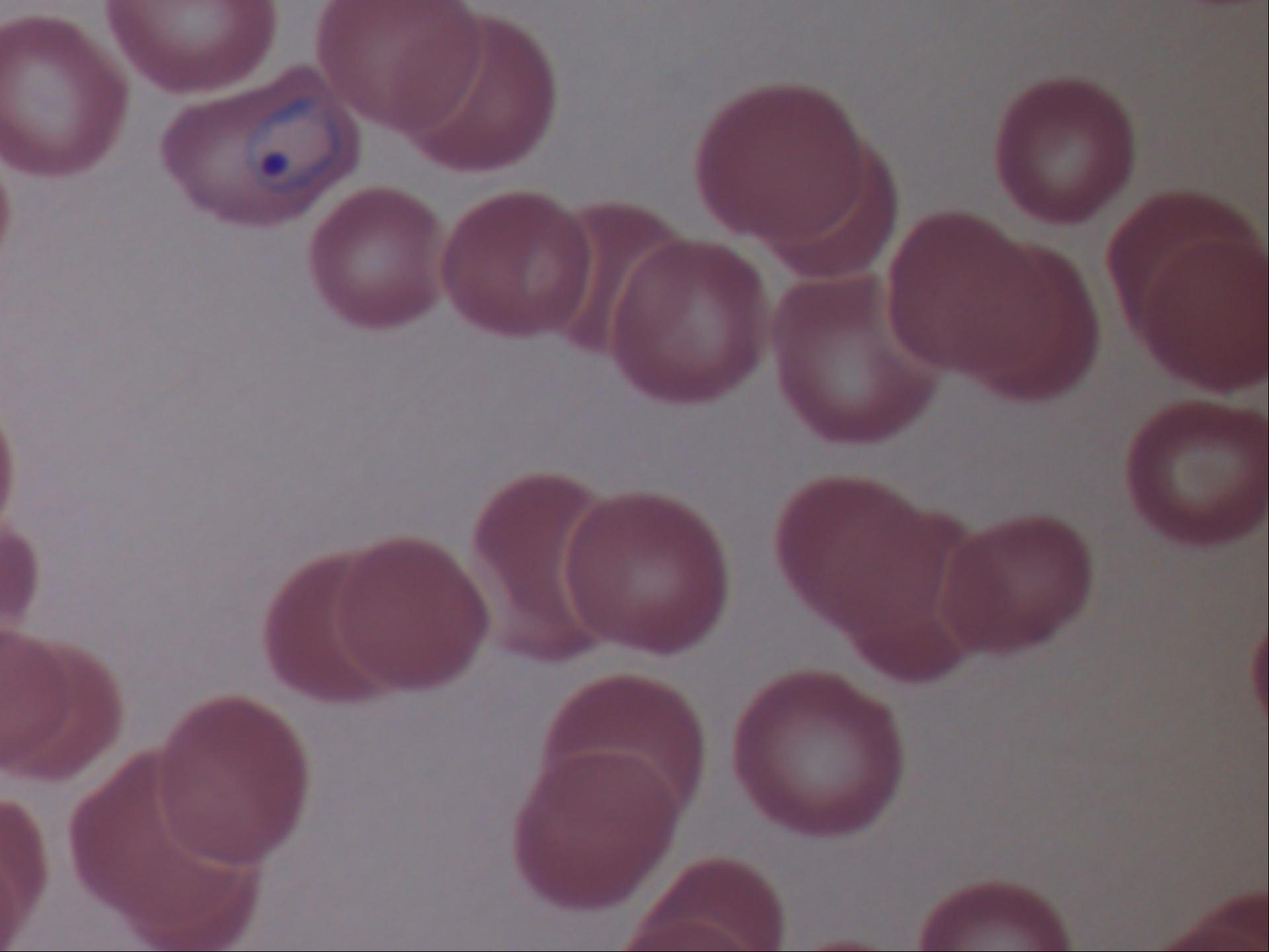Infected: (903, 721, 1107, 893)
Uninfected: (361, 104, 540, 291), (1013, 25, 1204, 198), (639, 285, 796, 482), (330, 505, 502, 682), (538, 289, 708, 463), (319, 318, 492, 480), (972, 78, 1115, 262), (403, 712, 564, 871), (505, 545, 657, 711), (568, 115, 727, 272), (670, 602, 820, 767), (714, 774, 871, 929), (225, 573, 373, 733), (273, 265, 423, 422), (167, 289, 322, 439), (586, 602, 742, 746), (604, 45, 755, 191), (784, 263, 934, 407), (0, 562, 129, 724), (868, 245, 1008, 394), (0, 406, 147, 545), (780, 827, 940, 952), (128, 730, 269, 871), (172, 542, 294, 702), (1146, 778, 1269, 930), (826, 622, 953, 768), (372, 670, 495, 810)
